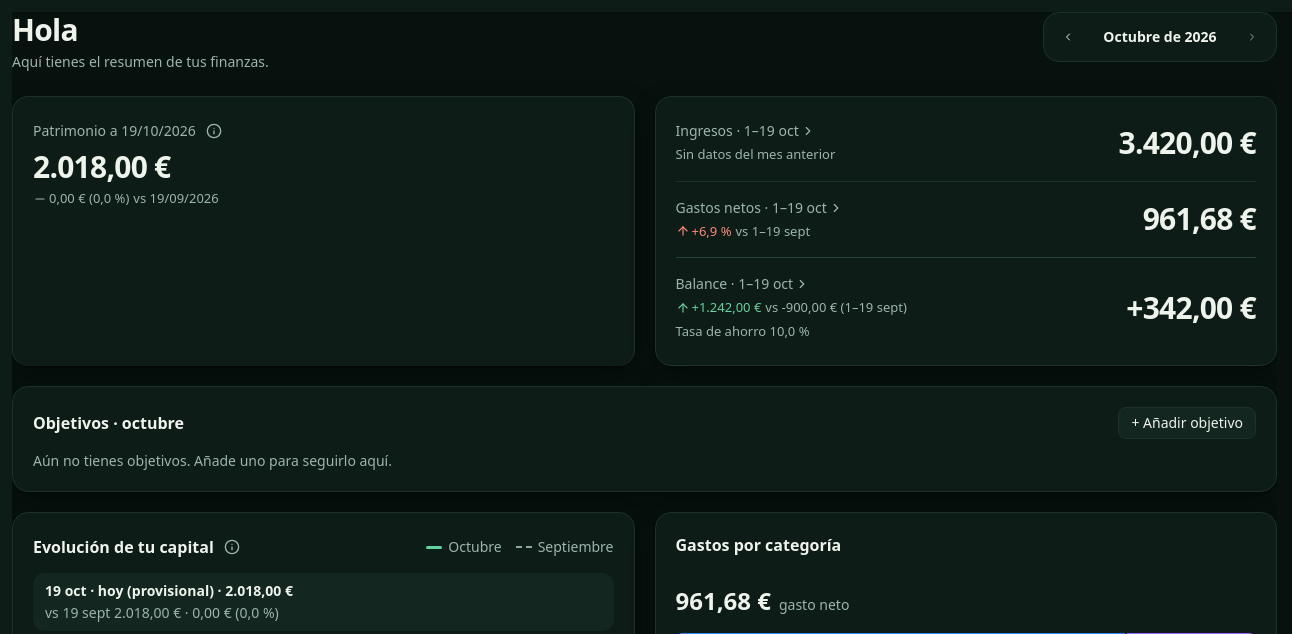
PaginaInicio · selector de mes › las flechas recorren los meses hasta el de la primera cuenta, que desactiva «anterior»
Expected: the heading "Patrimonio a 19/10/2026" is shown, [33,121,196,141]
Click the button named "Mes anterior". click: point(1068, 37)
box: [1046,15,1090,59]
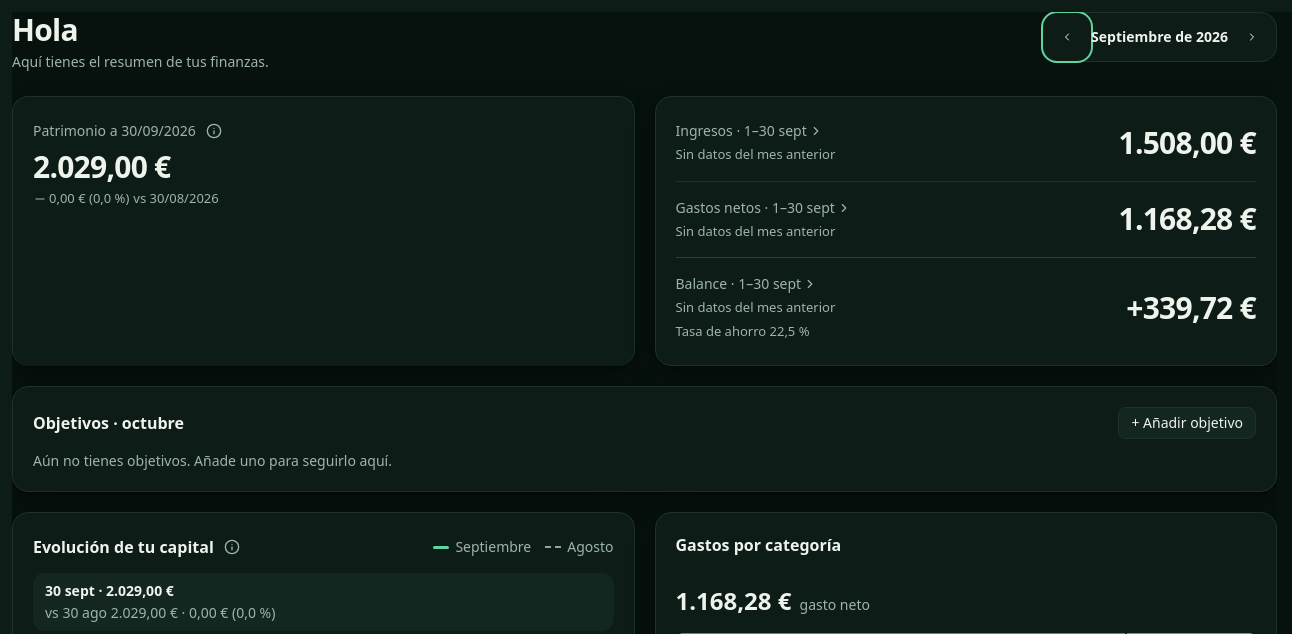
Expected: the heading "Patrimonio a 30/09/2026" is shown, [33,121,196,141]
Expected: the text with test id "mes-seleccionado" reads "Septiembre de 2026", [1091,27,1228,46]
Click the button named "Mes anterior". click: point(1067, 37)
box: [1045,15,1089,59]
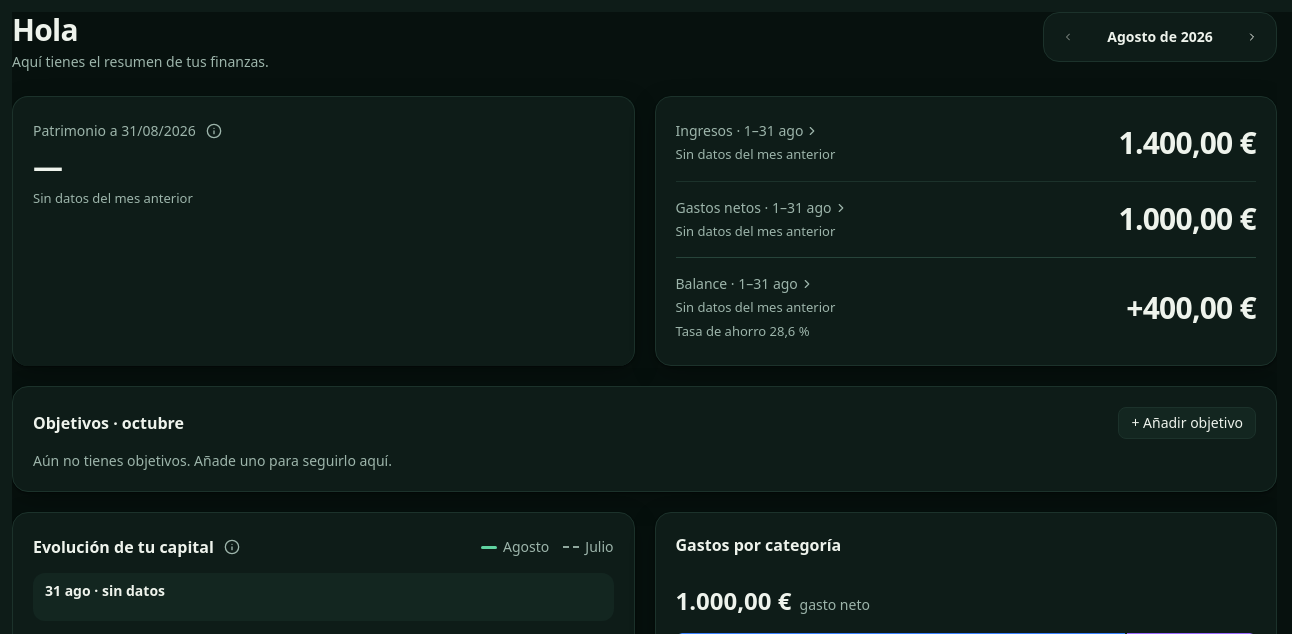
Expected: the button named "Mes siguiente" is enabled, [1230,15,1274,59]
Expected: the heading "Patrimonio a 31/08/2026" is shown, [33,121,196,141]
Expected: the text with test id "mes-seleccionado" reads "Agosto de 2026", [1107,27,1213,46]
